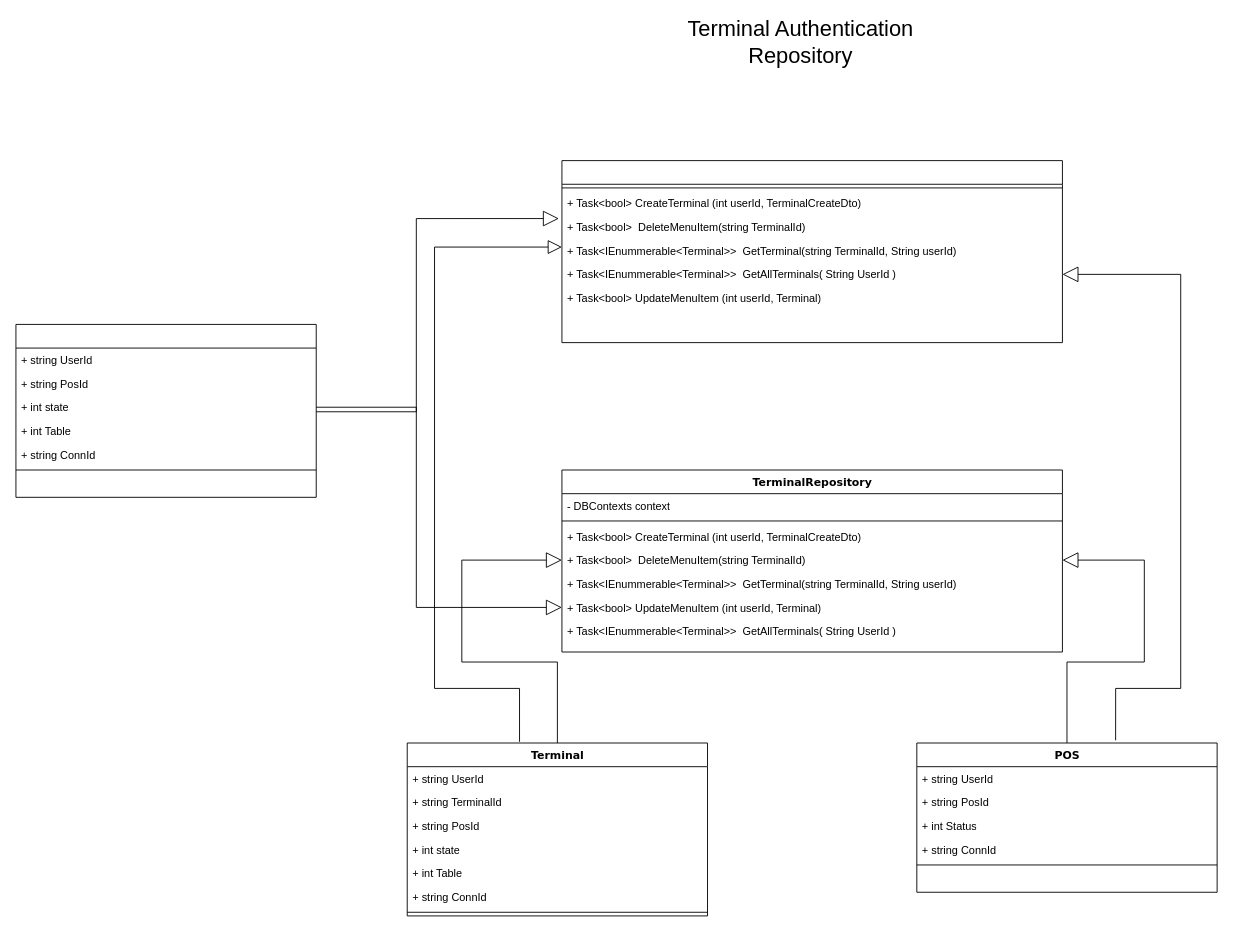
Some shapes in this 1233 by 932 pixel diagram are drawn without their labels. Here are the shapes that lost their labels. From the top down, the box of each, then its label:
(561, 160, 1062, 343): ITerminalRepository
(15, 324, 316, 497): TerminalCreateDto
